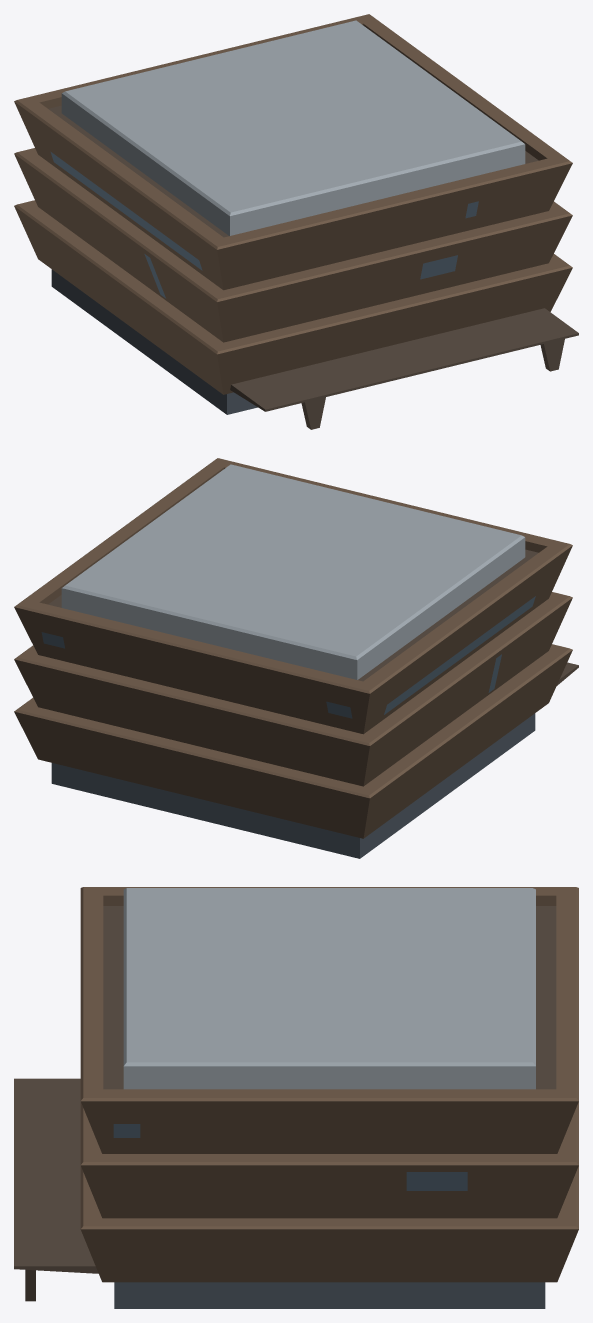
File: detail.glb
3 renders of one model, top to bottom at view 1: azimuth 30°, elevation 25°; view 2: azimuth 150°, elevation 25°; view 3: azimuth 270°, elevation 25°, orthographic. The views are drawn at different scales.
Visible parts, largest first — view 1: national-museum-of-african-american-history-and-culture; view 2: national-museum-of-african-american-history-and-culture; view 3: national-museum-of-african-american-history-and-culture.
Boxes of the visible parts, <box> form: national-museum-of-african-american-history-and-culture: <box>14,14,578,429</box>; national-museum-of-african-american-history-and-culture: <box>14,458,578,858</box>; national-museum-of-african-american-history-and-culture: <box>14,887,578,1308</box>.
Size of the model in its own units: 66.29 by 35 by 74.24.
